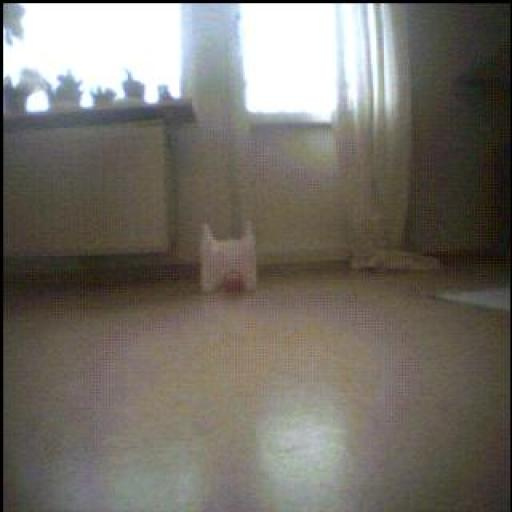Basket: (218, 267, 252, 301)
